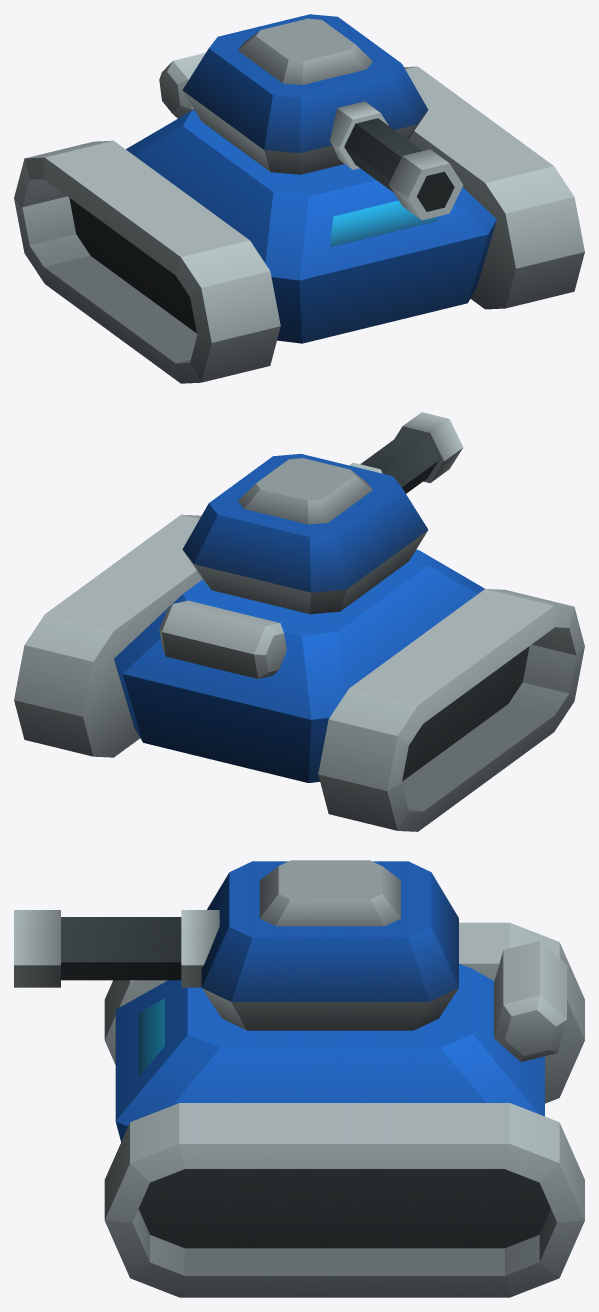
The model's file is player-tank-1.fbx.
3 views of the same model, one above another, from view 1: azimuth 30°, elevation 25°; view 2: azimuth 150°, elevation 25°; view 3: azimuth 270°, elevation 25° (orthographic). The views are drawn at different scales.
Parts seen in each view (by area): view 1: Cube.009, Cube.010; view 2: Cube.009, Cube.010; view 3: Cube.009, Cube.010.
Boxes of the visible parts, bbox=[...] form: Cube.009: bbox=[14, 52, 584, 383]; Cube.010: bbox=[182, 14, 463, 220]; Cube.009: bbox=[14, 514, 584, 831]; Cube.010: bbox=[182, 412, 463, 614]; Cube.009: bbox=[104, 922, 584, 1297]; Cube.010: bbox=[14, 860, 458, 1030].
Size of the model in its own units: 248 by 158 by 267.
